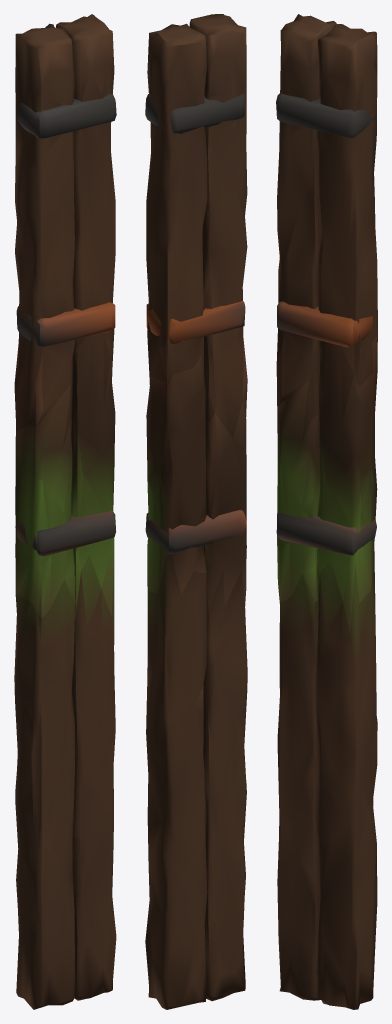
File: mire_barrel_stave_lod1.glb
3 renders of one model, left to right at view 1: azimuth 30°, elevation 25°; view 2: azimuth 210°, elevation 25°; view 3: azimuth 330°, elevation 25°, orthographic.
Parts seen in each view (by area): view 1: mire_barrel_stave.001; view 2: mire_barrel_stave.001; view 3: mire_barrel_stave.001.
Boxes of the visible parts, box(x1,y1,x2,y2) form: mire_barrel_stave.001: box(14, 14, 116, 1009); mire_barrel_stave.001: box(145, 14, 247, 1009); mire_barrel_stave.001: box(276, 14, 377, 1009).
Size of the model in its own units: 6.8 by 74.3 by 3.71.
